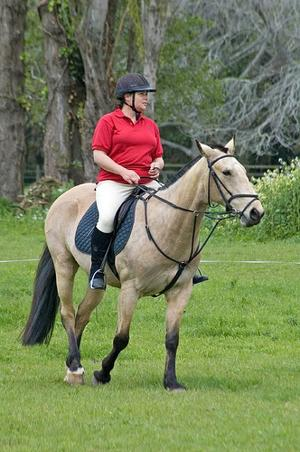person: (89, 71, 164, 286)
